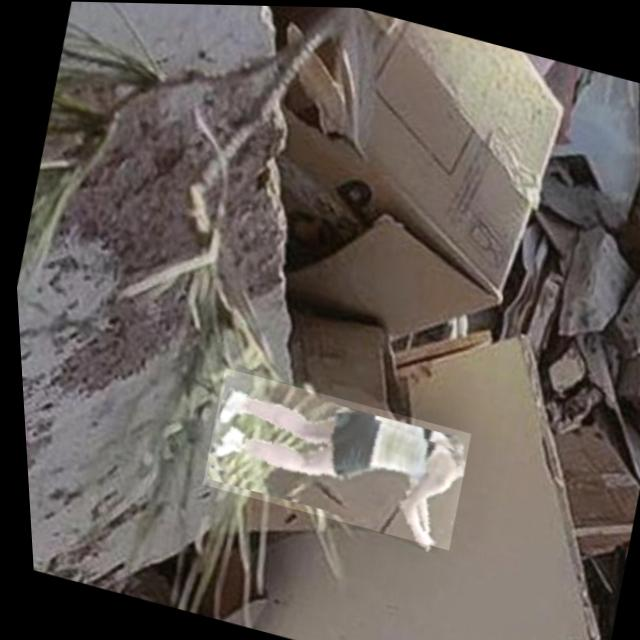Person in Rubble: (190, 366, 470, 548)
